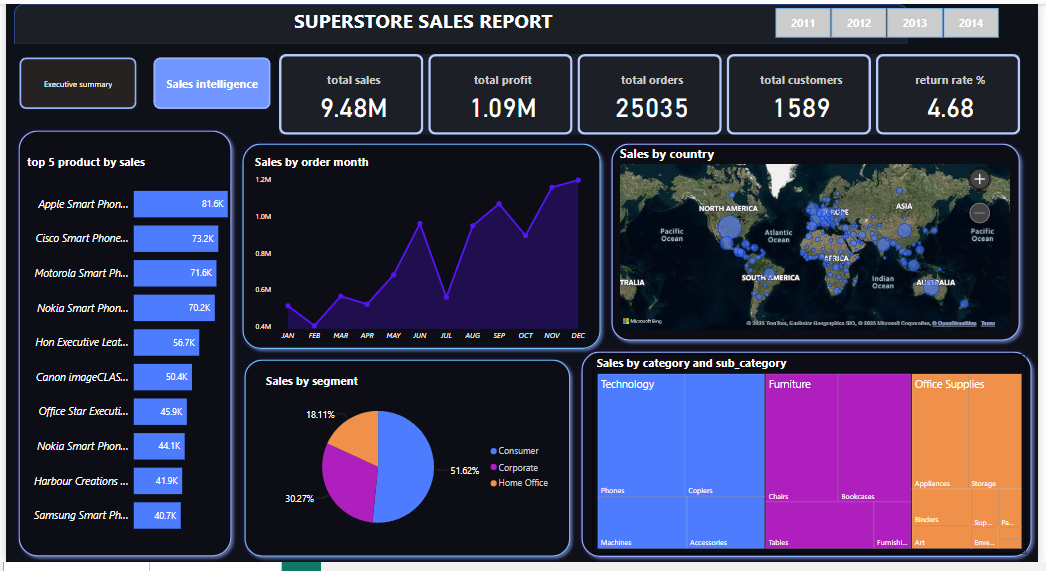

Layout of this report page (visuals, bound fields, positions):
{"tool":"powerbi","page":{"name":"Executive summary","canvas":[1700,920],"ordinal":0},"visuals":[{"type":"cardVisual","fields":{"Data":["fact_orders.total sales","fact_orders.total profit","fact_orders.total orders","fact_orders.total products","fact_orders.return rate %"]},"box":[444.8,77.6,1236.2,143.1],"z":0},{"type":"shape","box":[13.3,0,1473.5,65.1],"z":1000},{"type":"textbox","box":[340,0,696.7,65],"z":2000},{"type":"shape","box":[989.7,220.7,691.4,343.1],"z":3000},{"type":"shape","box":[381,220.7,608.6,356.9],"z":3500},{"type":"areaChart","title":"Sales by order month","fields":{"Category":["fact_orders.order month"],"Y":["fact_orders.total sales"]},"box":[405.2,246.6,560.3,317.2],"z":4000},{"type":"shape","box":[12.2,200,369.4,720.4],"z":6000},{"type":"shape","box":[939.7,563.8,760.3,356.9],"z":8000},{"type":"treemap","title":"Sales by category and sub_category","fields":{"Values":["fact_orders.total sales"],"Group":["dim_products.category"],"Details":["dim_products.sub_category"]},"box":[967.3,577.6,714.3,328.6],"z":9000},{"type":"pageNavigator","box":[13.3,78.3,433,103],"z":10000},{"type":"slicer","fields":{"Values":["fact_orders.Year"]},"box":[1242.9,0,416.7,61.9],"z":11000},{"type":"shape","box":[384.5,577.6,555.2,343.1],"z":12000},{"type":"pieChart","title":"Sales by segment","fields":{"Category":["dim_customers.segment"],"Y":["fact_orders.total sales"]},"box":[424.1,608.6,484.5,284.5],"z":13000},{"type":"map","title":"Sales by country","fields":{"Category":["dim_geography.country"],"Size":["fact_orders.total sales"]},"box":[1006.9,232.8,653.4,310.3],"z":14000},{"type":"barChart","title":"top 5 product by sales","fields":{"Category":["dim_products.product_name"],"Y":["fact_orders.total sales"]},"box":[29.3,246.6,341.4,646.6],"z":15000}]}

Visuals, with their boxes in screenshot pixels (x1, y1, x2, y2), scaled from the page's 1700x920 canvas onto the 1046x571 screenshot:
cardVisual - fact_orders.total sales x fact_orders.total profit: detection(274, 48, 1034, 137)
shape: detection(8, 0, 915, 40)
textbox: detection(209, 0, 638, 40)
shape: detection(609, 137, 1034, 350)
shape: detection(234, 137, 609, 358)
"Sales by order month" areaChart: detection(249, 153, 594, 350)
shape: detection(8, 124, 235, 570)
shape: detection(578, 350, 1045, 570)
"Sales by category and sub_category" treemap: detection(595, 358, 1035, 562)
pageNavigator: detection(8, 49, 275, 113)
slicer - fact_orders.Year: detection(765, 0, 1021, 38)
shape: detection(237, 358, 578, 570)
"Sales by segment" pieChart: detection(261, 378, 559, 554)
"Sales by country" map: detection(620, 144, 1022, 337)
"top 5 product by sales" barChart: detection(18, 153, 228, 554)
